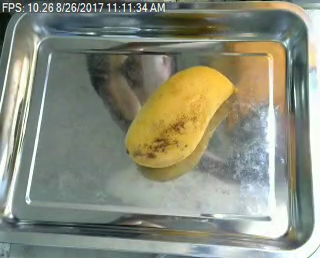Mango: (125, 64, 237, 171)
